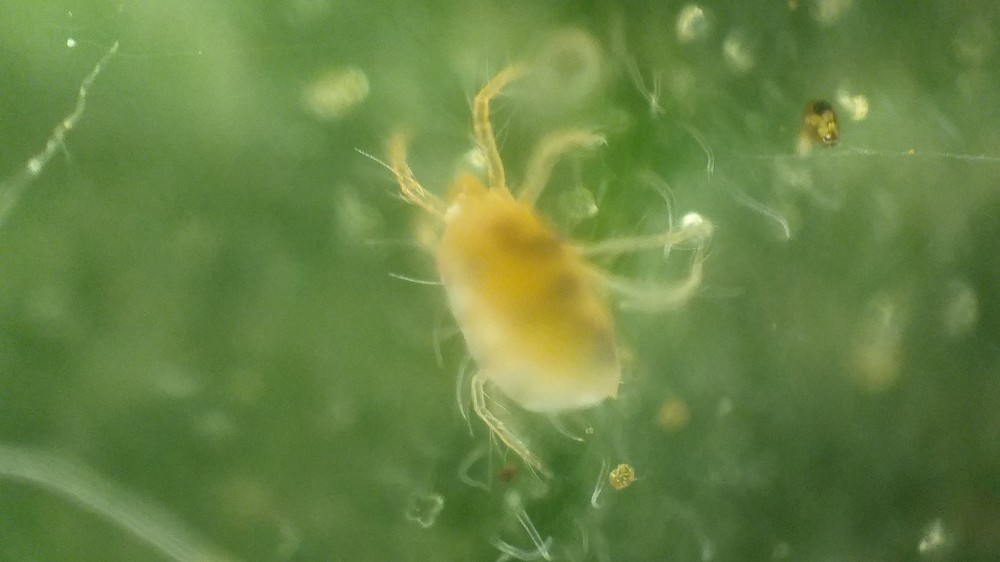Aracnido Rojo: (345, 74, 704, 496)
